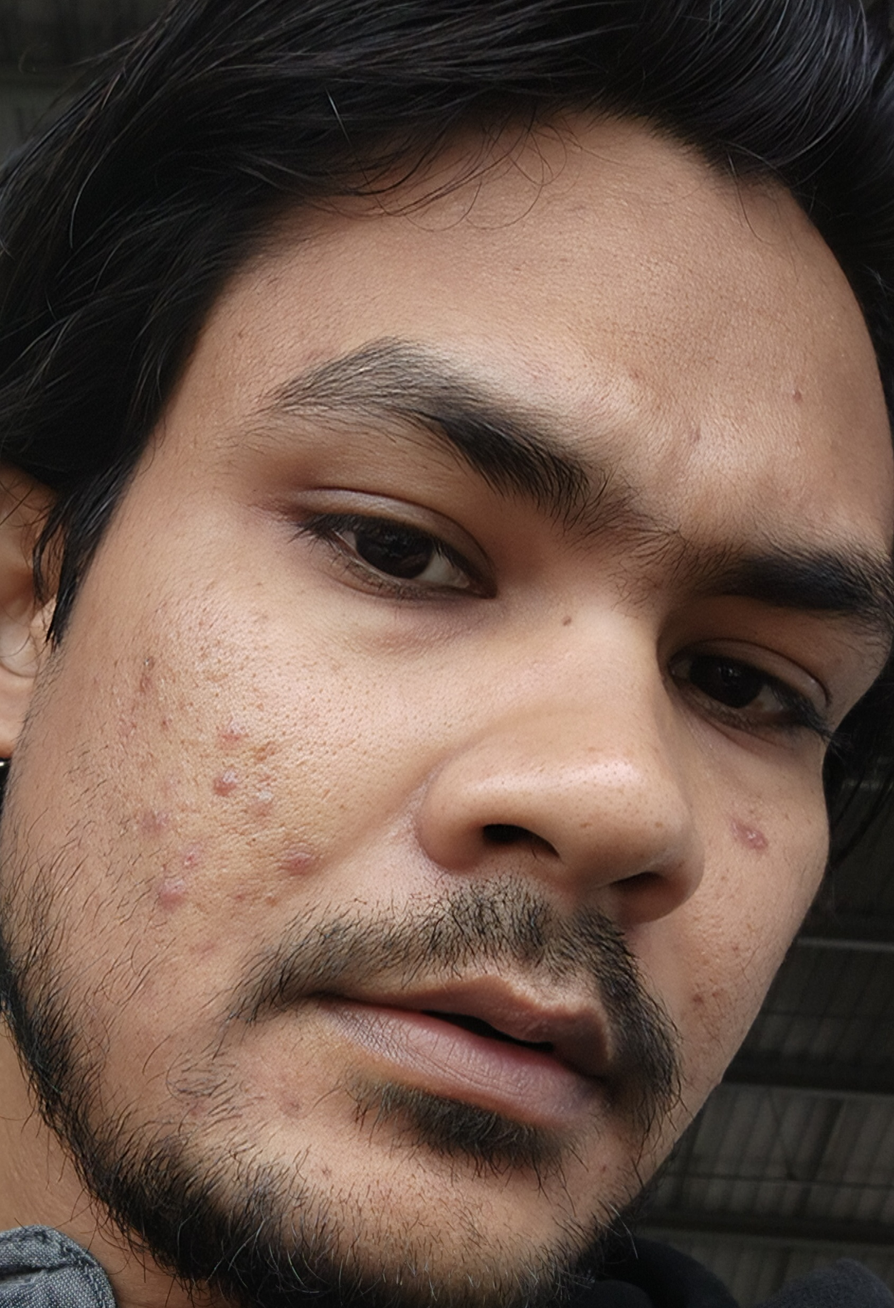papule: (211, 705, 293, 767), (187, 761, 260, 821), (278, 834, 347, 895), (720, 811, 770, 880), (148, 860, 191, 921), (124, 802, 170, 845)
